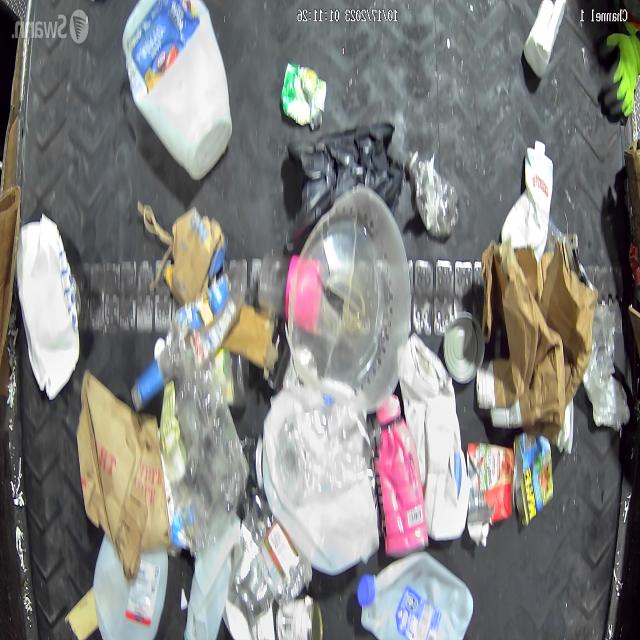can: (466, 439, 514, 525), (513, 434, 553, 528), (281, 62, 327, 129), (443, 312, 485, 382), (276, 597, 326, 639)
milk_jug: (263, 381, 376, 574), (121, 0, 232, 177), (397, 332, 469, 541), (18, 212, 79, 400), (357, 551, 474, 640), (94, 539, 168, 640), (183, 514, 240, 640)
plastic_bottle: (407, 149, 459, 237)
